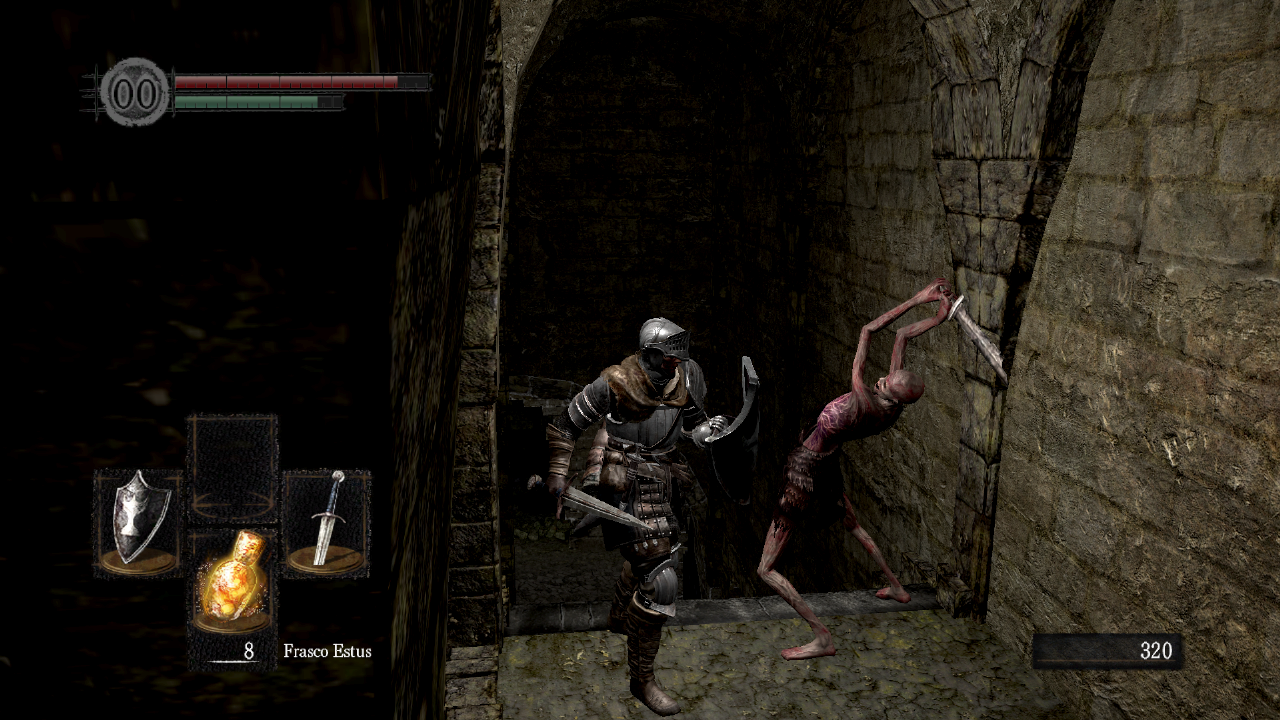hollow: (756, 277, 1008, 661)
player: (527, 317, 761, 716)
